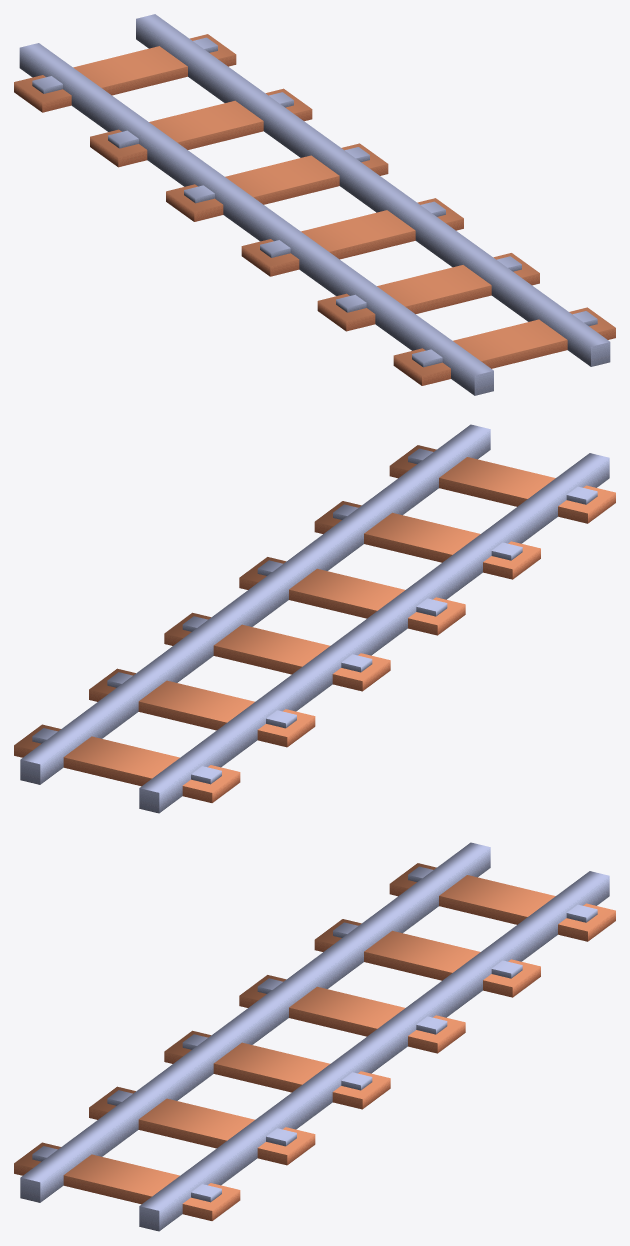
Rendered from railroad-straight.060_lev2.glb.
3 views of the same model, one above another, from view 1: azimuth 30°, elevation 25°; view 2: azimuth 150°, elevation 25°; view 3: azimuth 330°, elevation 25° (orthographic).
Visible parts, largest first — view 1: railroad-straight.060_lev2; view 2: railroad-straight.060_lev2; view 3: railroad-straight.060_lev2.
Part boxes in pixels (<box>): railroad-straight.060_lev2: <box>14,14,615,395</box>; railroad-straight.060_lev2: <box>14,424,615,813</box>; railroad-straight.060_lev2: <box>14,842,615,1231</box>.
Size of the model in its own units: 1.03 by 0.1 by 4.
Materials: 1 (1 with a texture image).
